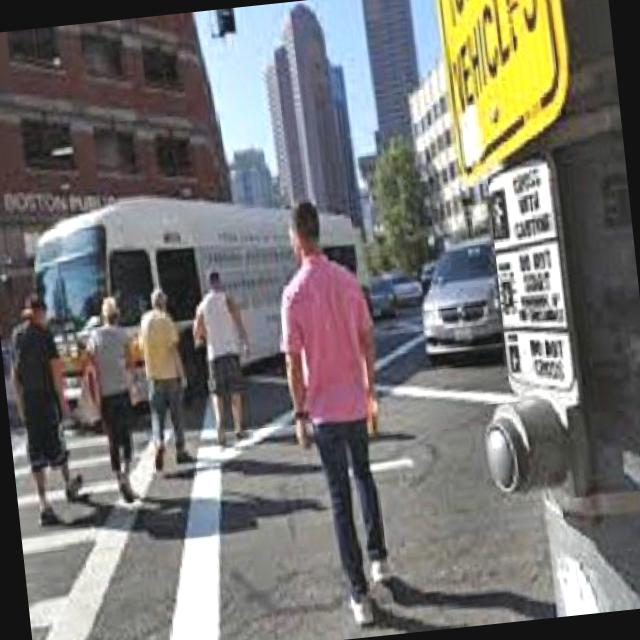Person: (260, 184, 410, 637), (5, 294, 97, 526), (82, 290, 154, 508), (180, 269, 258, 441), (134, 282, 200, 478)
